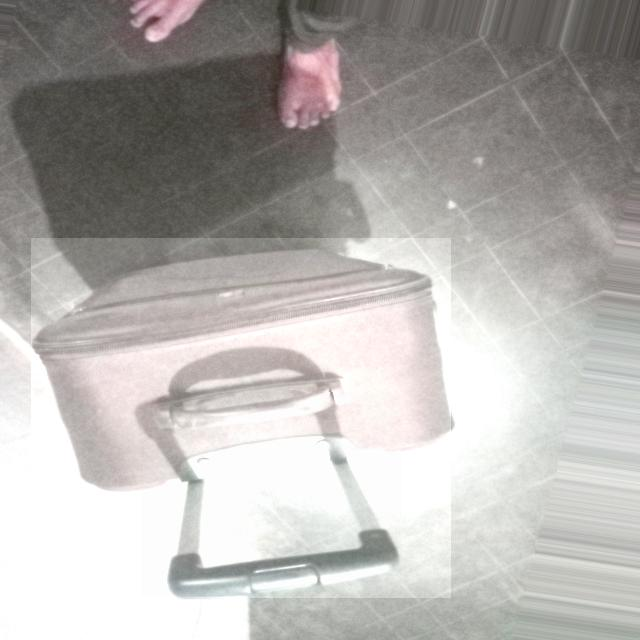Bag: (17, 233, 465, 632)
Handle: (157, 448, 422, 618)
